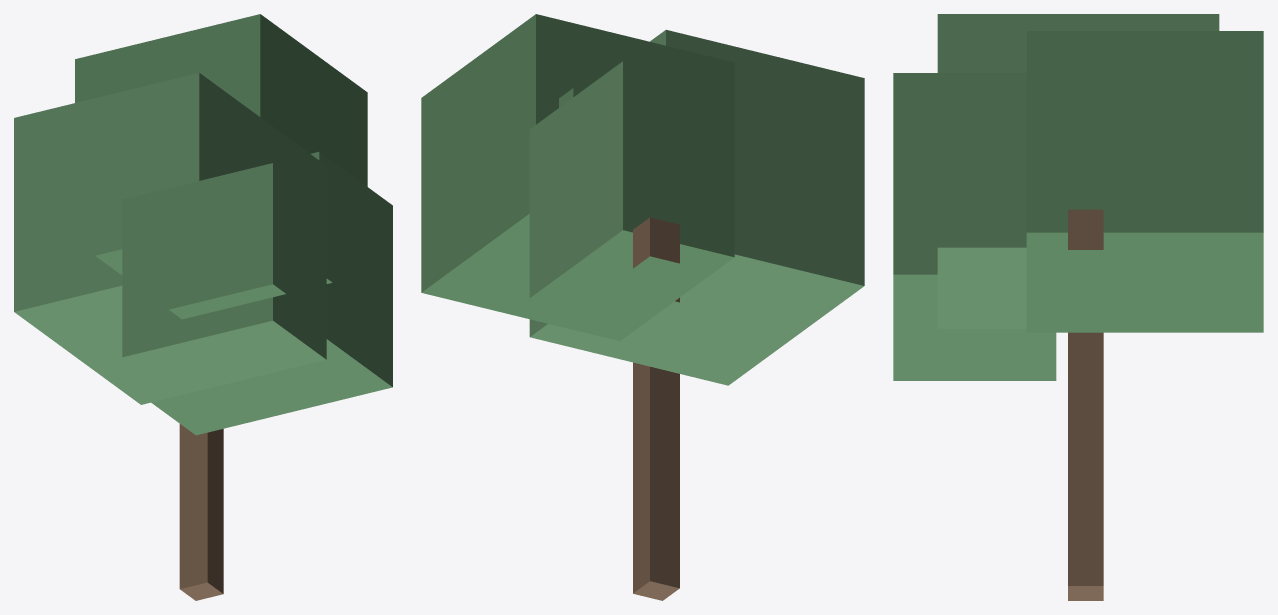
File: tree.glb
The picture shows the model from 3 angles, left to right: view 1: azimuth 30°, elevation 25°; view 2: azimuth 150°, elevation 25°; view 3: azimuth 270°, elevation 25°; orthographic projection. The views are drawn at different scales.
Parts seen in each view (by area): view 1: CanopyA, CanopyC, CanopyB, Trunk; view 2: CanopyB, CanopyA, Trunk; view 3: CanopyB, CanopyC, CanopyA, Trunk.
Part boxes in pixels (bbox=[...]): CanopyA: bbox=[14, 72, 326, 404]; CanopyC: bbox=[122, 151, 392, 435]; CanopyB: bbox=[75, 14, 367, 319]; Trunk: bbox=[179, 424, 223, 600]; CanopyB: bbox=[421, 14, 734, 341]; CanopyA: bbox=[529, 30, 864, 385]; Trunk: bbox=[633, 217, 679, 600]; CanopyB: bbox=[1026, 31, 1263, 332]; CanopyC: bbox=[893, 73, 1056, 380]; CanopyA: bbox=[937, 14, 1219, 329]; Trunk: bbox=[1068, 209, 1103, 600].
Size of the model in its own units: 2.3 by 4 by 2.5.
